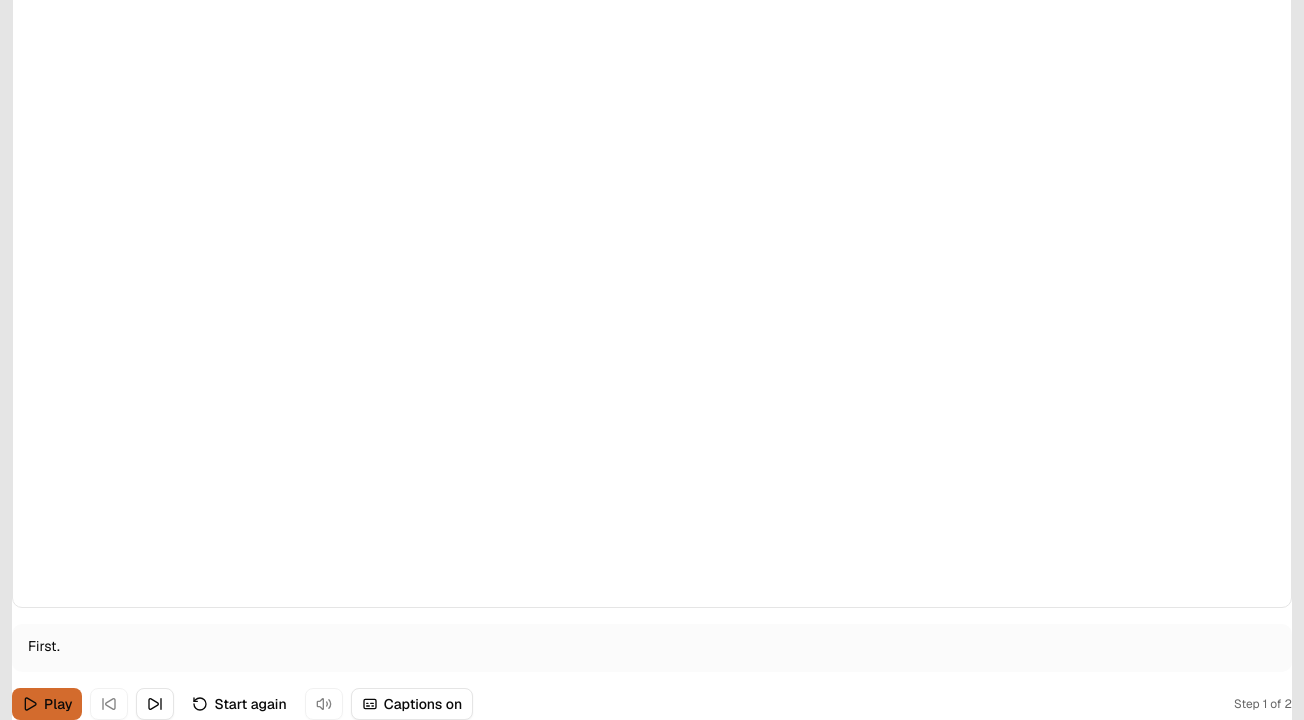
Test: the player and its controls, together › shows the same word it announces, at both ends of the lesson
(page scrolled)
Expected: the button "Play" is shown, [12,688,82,719]
Click the button named "Next step". click: coordinates (155, 704)
box: [136,688,174,719]
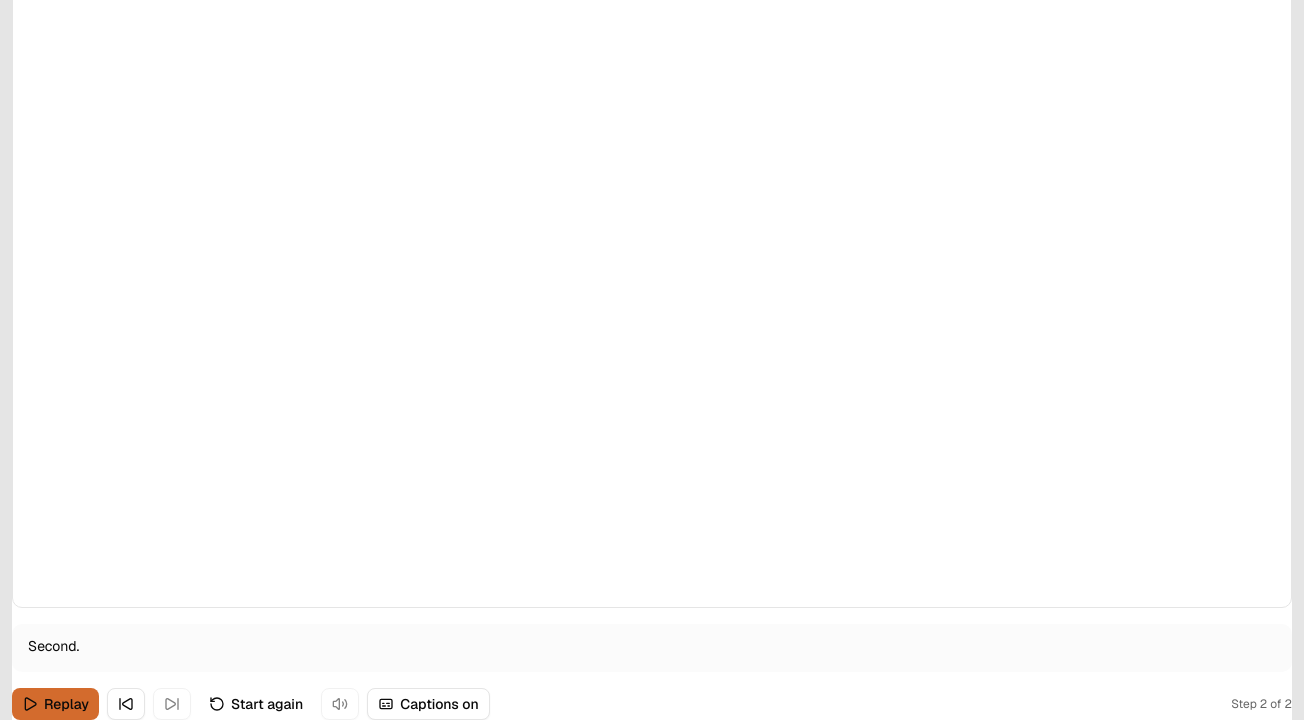
Now the button "Replay" is shown, box [12,688,99,719]
